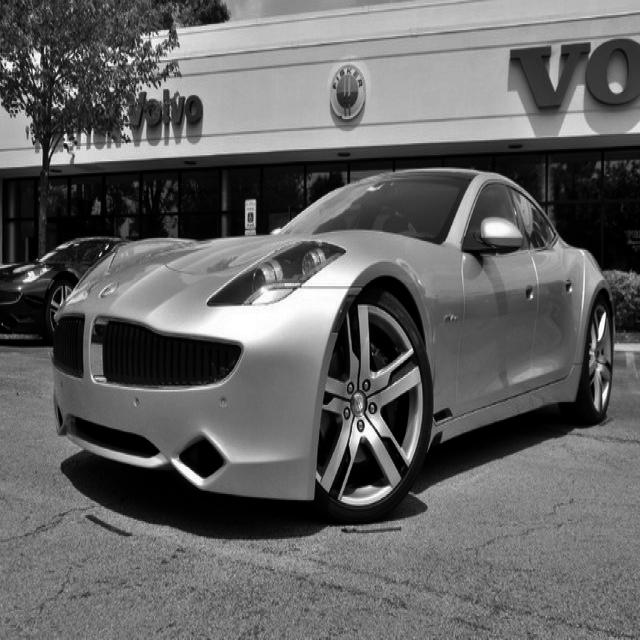car: (51, 166, 616, 524), (0, 235, 130, 343)
